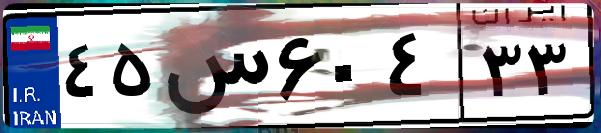0: (330, 28, 385, 110)
3: (475, 38, 525, 113), (525, 38, 570, 115)
4: (385, 28, 445, 110), (57, 26, 110, 100)
5: (110, 28, 158, 98)
6: (270, 28, 330, 110)
س: (158, 20, 270, 120)
